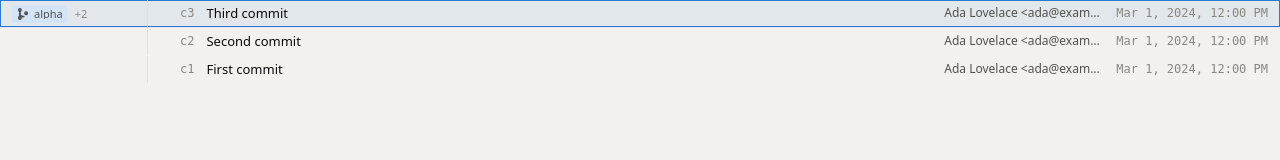
Test: CommitGraph — ref-chip collapse popover (specs/ref-chip-gutter-legibility.md FR-410/411) › right-clicking a local-branch row opens that branch's menu (and a tag row does nothing)
Click the button named "2 more refs on this commit" at x=81, y=14, box x1=71 y1=4 x2=91 y2=22
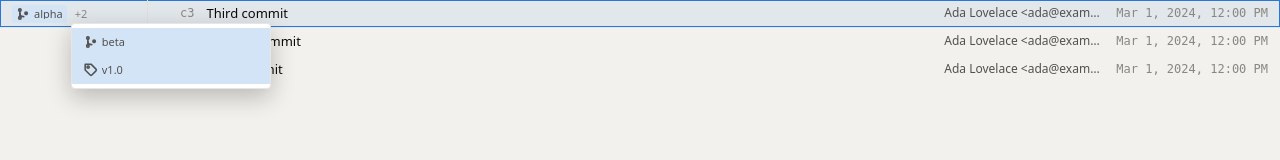
Right-click the menu item "v1.0" at x=171, y=70, box x1=72 y1=56 x2=270 y2=84
expect the menu named "more refs on this commit" is shown: met, box x1=71 y1=22 x2=271 y2=88
Right-click the menu item "beta" at x=171, y=42, box x1=72 y1=28 x2=270 y2=56
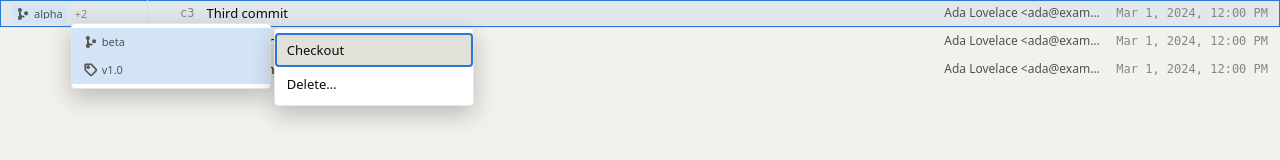
expect the menu named "more refs on this commit" is shown: met, box x1=71 y1=22 x2=271 y2=88
expect the menu item "Checkout" is shown: met, box x1=275 y1=32 x2=473 y2=67
Press Escape
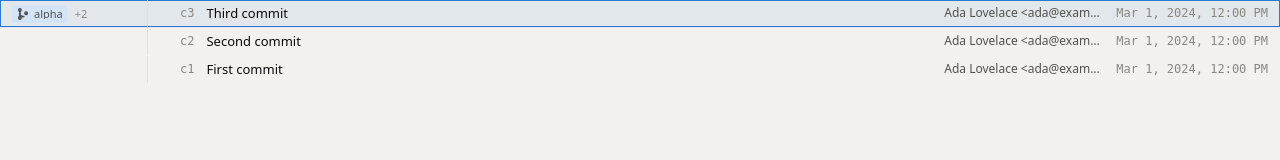
expect the menu is gone: met
